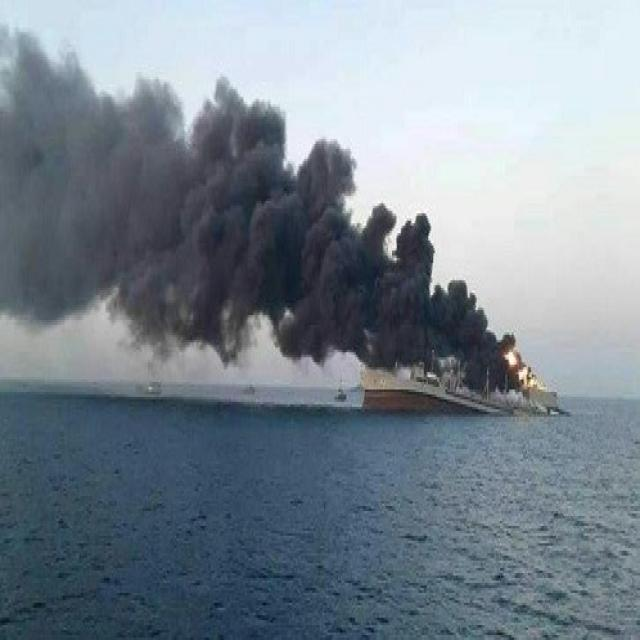navalvessels: (360, 309, 532, 423)
